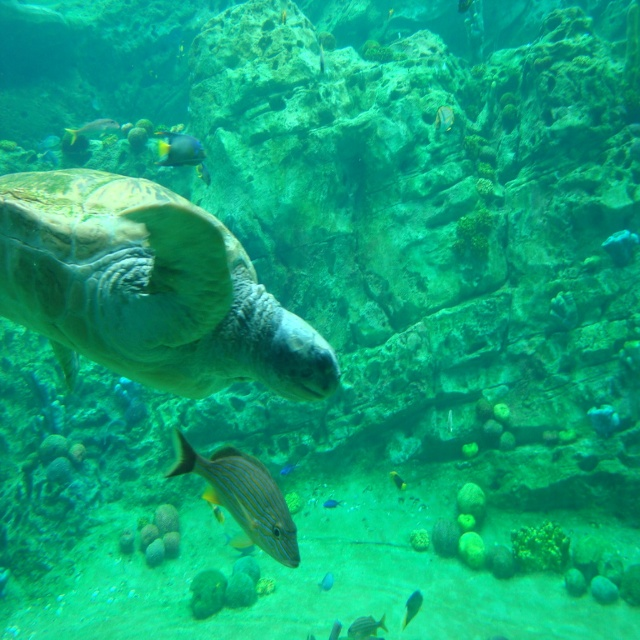Tortoise: (0, 168, 341, 402)
